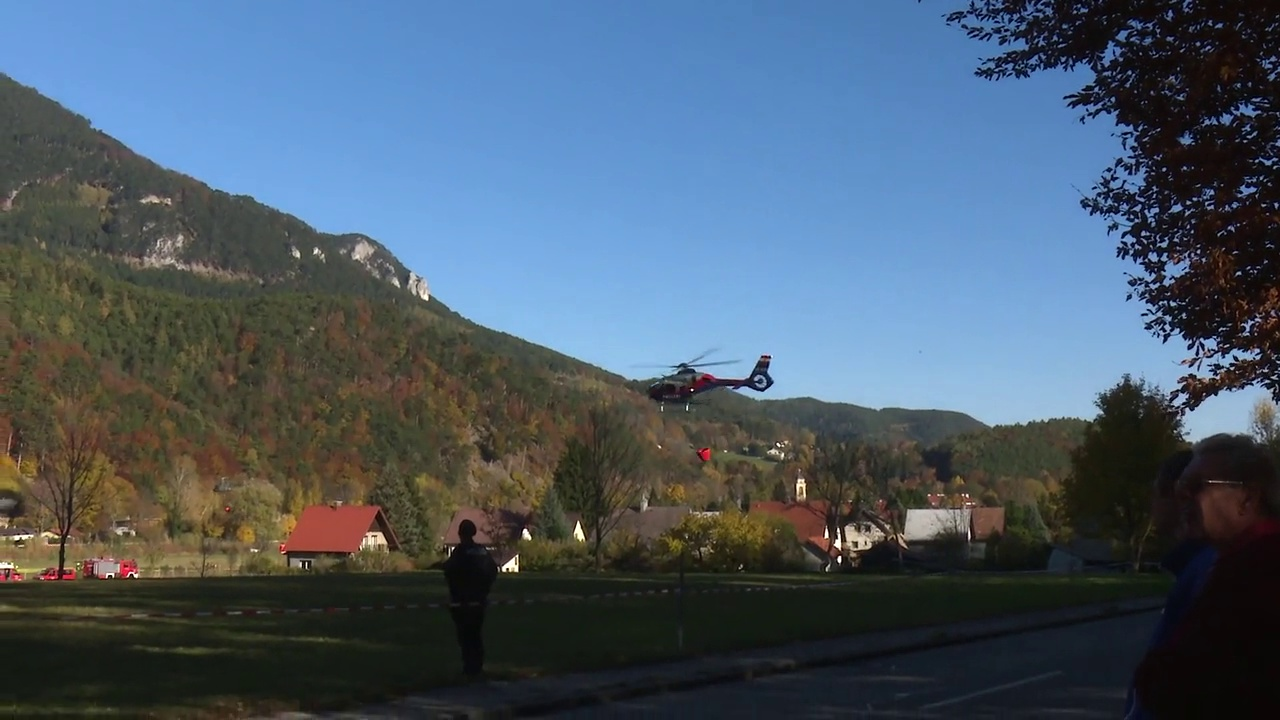heli: (640, 349, 773, 417)
